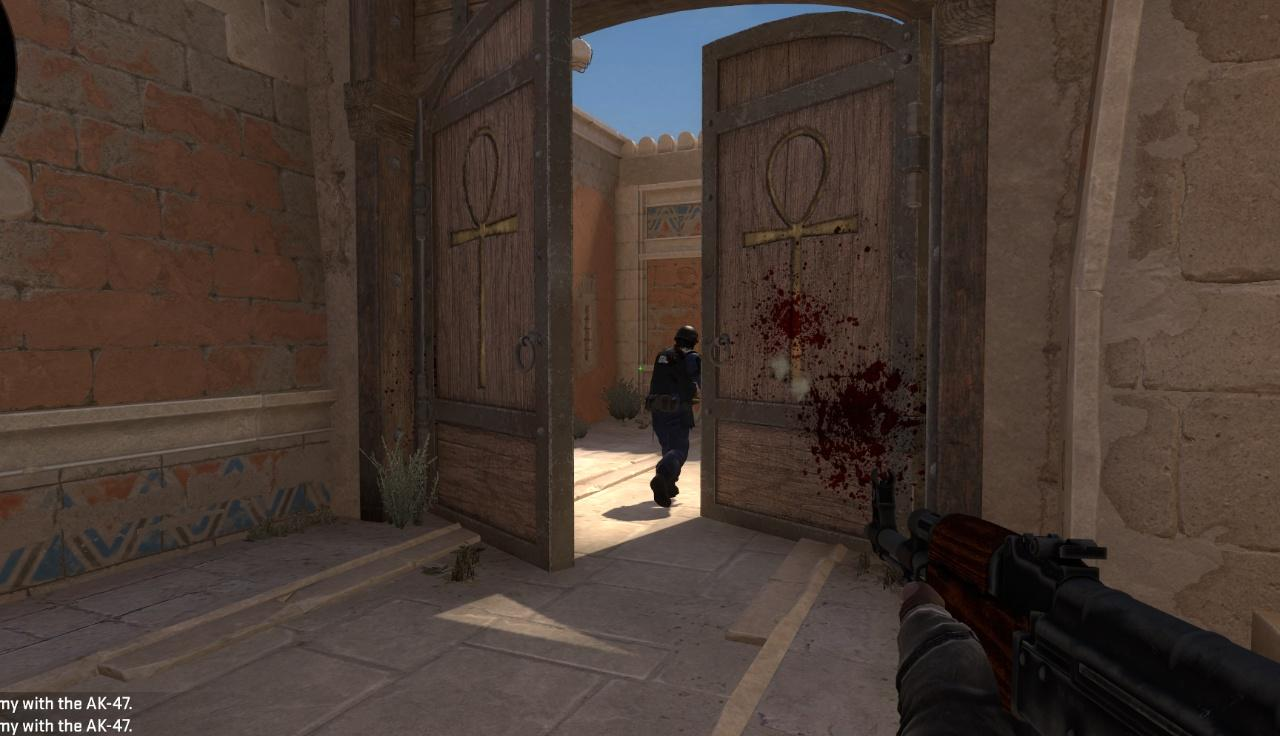ct: (649, 324, 700, 507)
cthead: (675, 325, 698, 350)
rifle: (845, 461, 1280, 736)
